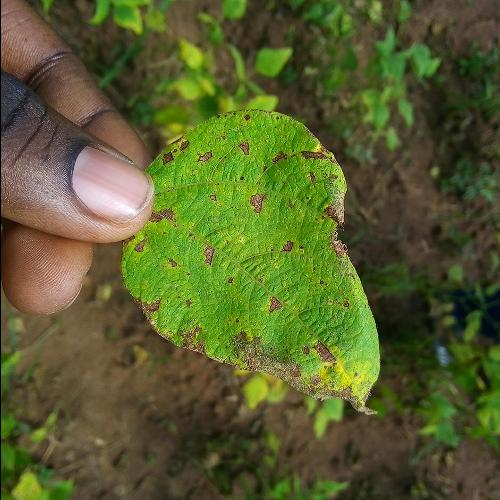hawar: (130, 115, 377, 422)
